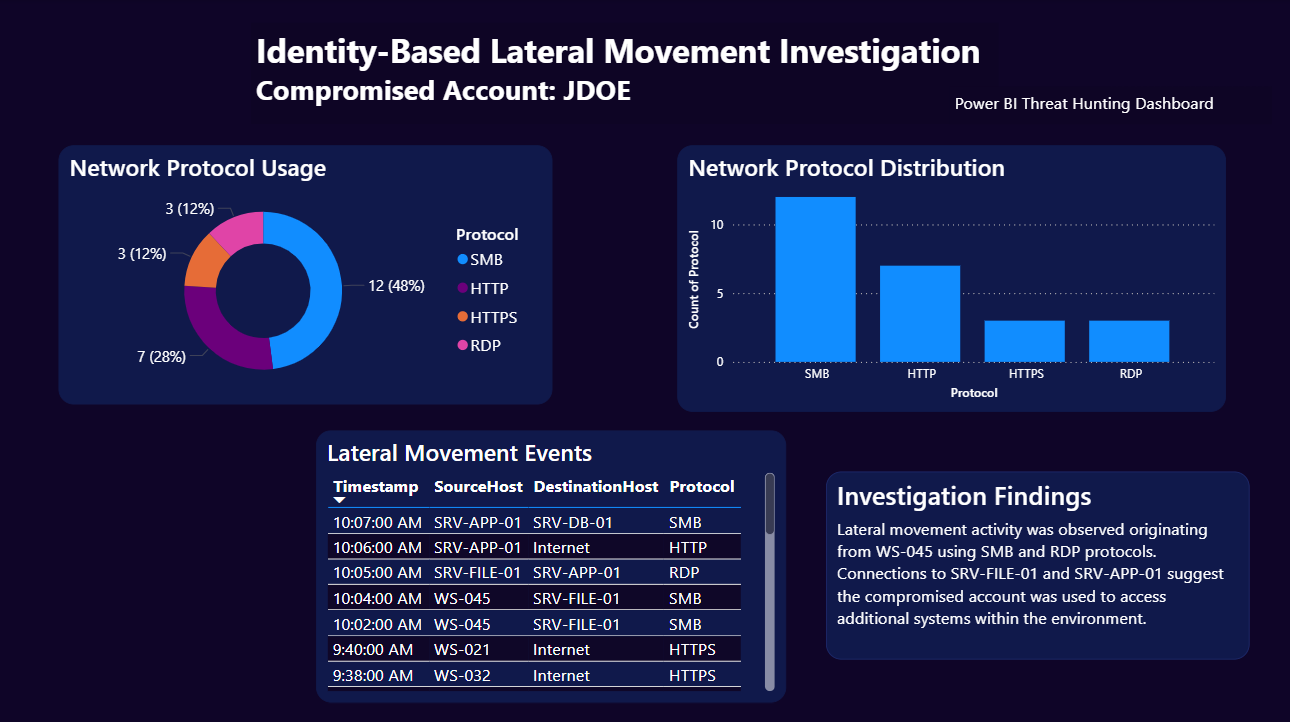

The page's visual inventory and layout, read from the dashboard file:
{"tool":"powerbi","page":{"name":"Lateral Movement","canvas":[1280,720],"ordinal":3},"visuals":[{"type":"donutChart","title":"Network Protocol Usage","fields":{"Category":["NetworkLogs.Protocol"],"Y":["CountNonNull(NetworkLogs.Protocol)"]},"box":[65.9,142.7,483,253.9],"z":0},{"type":"tableEx","title":"Lateral Movement Events","fields":{"Values":["NetworkLogs.Timestamp","NetworkLogs.SourceHost","NetworkLogs.DestinationHost","NetworkLogs.Protocol"]},"box":[318.4,421.3,459.7,266.2],"z":1000},{"type":"clusteredColumnChart","title":"Network Protocol Distribution","fields":{"Category":["NetworkLogs.Protocol"],"Y":["CountNonNull(NetworkLogs.Protocol)"]},"box":[671,142.7,536.5,260.7],"z":2000},{"type":"textbox","box":[254.3,23.2,731.3,99],"z":4000},{"type":"textbox","box":[937.9,85.6,315.5,36.7],"z":5000},{"type":"textbox","title":"Investigation Findings","box":[816.5,462.4,414.4,183.9],"z":5001}]}

Visuals, with their boxes in screenshot pixels (x1, y1, x2, y2), scaled from the page's 1280x720 canvas onto the 1290x722 screenshot:
"Network Protocol Usage" donutChart: pyautogui.locateOnScreen(66, 143, 553, 398)
"Lateral Movement Events" tableEx: pyautogui.locateOnScreen(321, 422, 784, 689)
"Network Protocol Distribution" clusteredColumnChart: pyautogui.locateOnScreen(676, 143, 1217, 405)
textbox: pyautogui.locateOnScreen(256, 23, 993, 123)
textbox: pyautogui.locateOnScreen(945, 86, 1263, 123)
"Investigation Findings" textbox: pyautogui.locateOnScreen(823, 464, 1241, 648)
